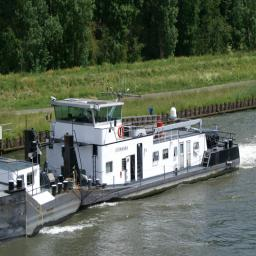tugboat: (22, 96, 243, 210)
